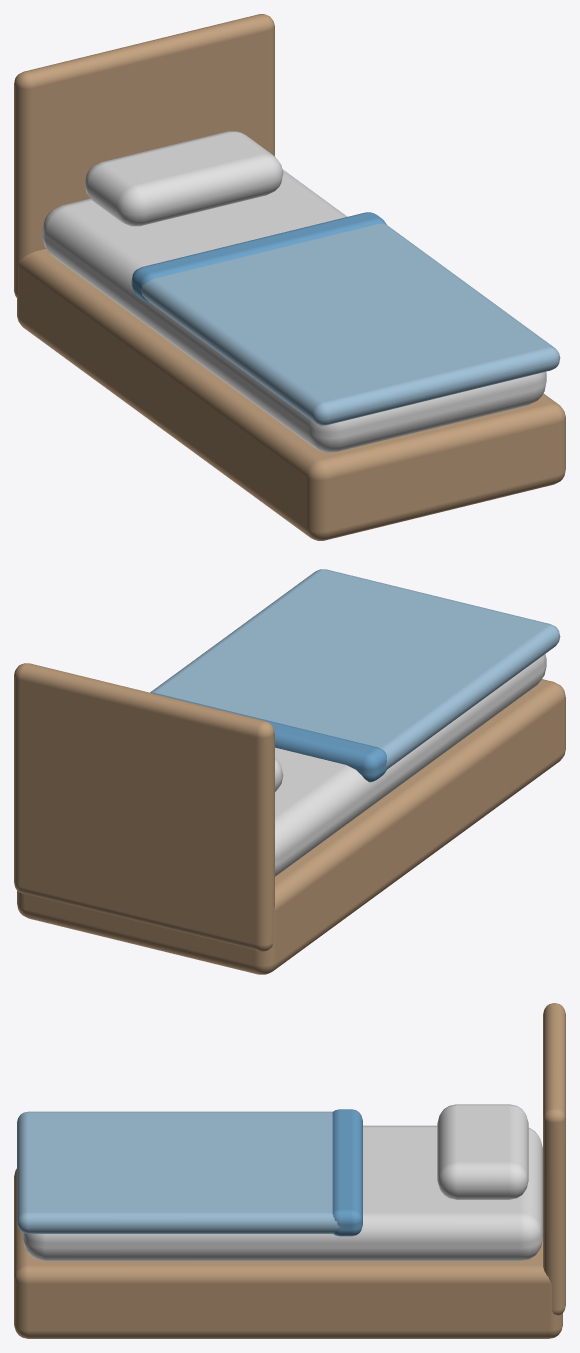
File: furn_bed_ph.glb
The picture shows the model from 3 angles, top to bottom: view 1: azimuth 30°, elevation 25°; view 2: azimuth 150°, elevation 25°; view 3: azimuth 270°, elevation 25°; orthographic projection. The views are drawn at different scales.
Parts seen in each view (by area): view 1: furn_bed; view 2: furn_bed; view 3: furn_bed.
Part boxes in pixels (x1,y1,x2,y2): furn_bed: [14, 14, 565, 540]; furn_bed: [14, 569, 565, 974]; furn_bed: [14, 1003, 565, 1338].
Size of the model in its own units: 0.94 by 0.89 by 1.93.
